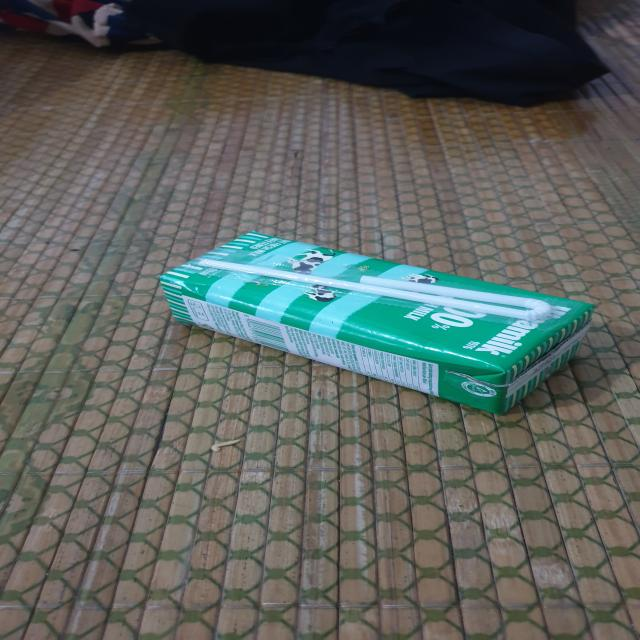Vina: (151, 233, 602, 420)
